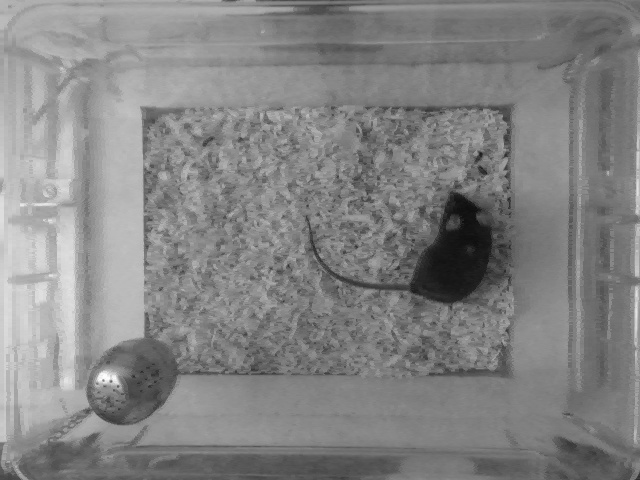mice: (303, 182, 497, 308)
